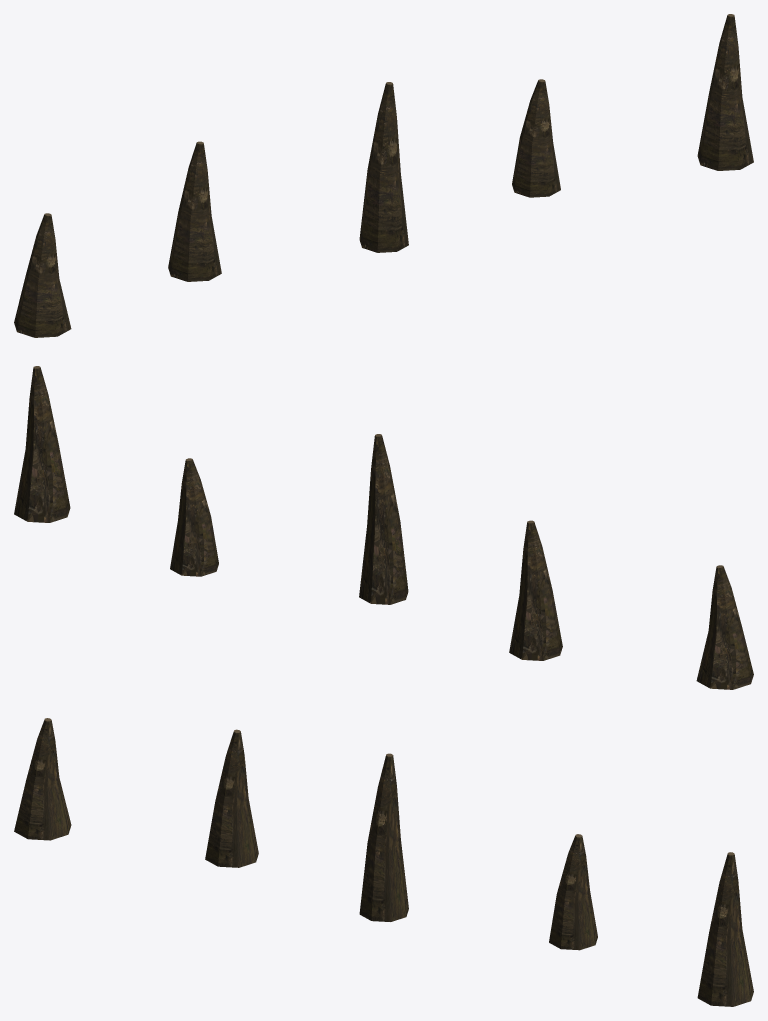
The model's file is bald_cypress_knees.glb.
3 views of the same model, one above another, from view 1: azimuth 30°, elevation 25°; view 2: azimuth 150°, elevation 25°; view 3: azimuth 330°, elevation 25° (orthographic).
Visible parts, largest first — view 1: bald_cypress_knees; view 2: bald_cypress_knees; view 3: bald_cypress_knees.
Boxes of the visible parts, <box> form: bald_cypress_knees: <box>14,14,753,337</box>; bald_cypress_knees: <box>14,366,753,689</box>; bald_cypress_knees: <box>14,718,753,1006</box>.
Size of the model in its own units: 6.88 by 1.42 by 0.7674.
1 material, 1 textured.
